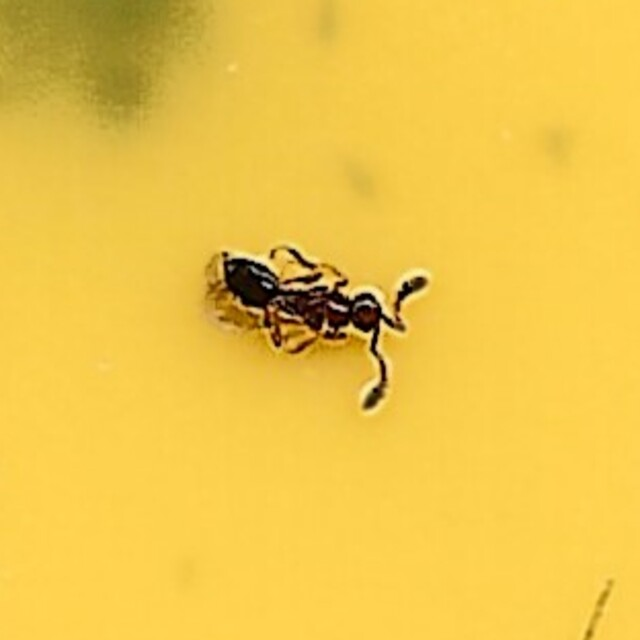Hymenoptera: (205, 231, 435, 409)
